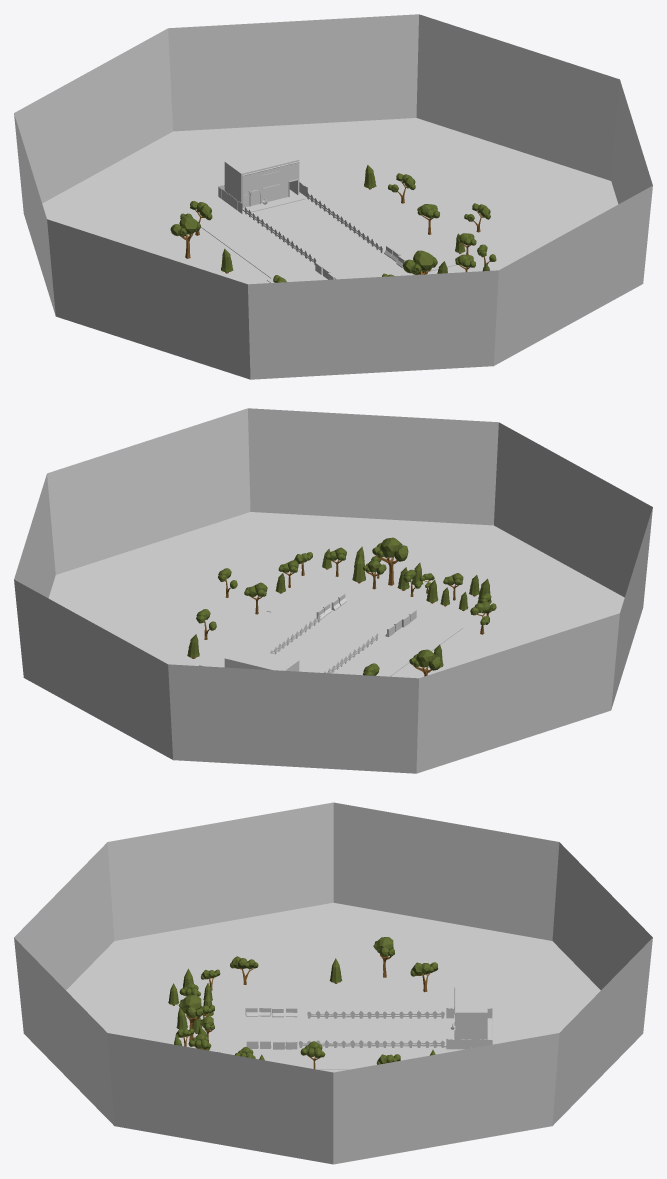
File: map2.fbx
3 views of the same model, one above another, from view 1: azimuth 30°, elevation 25°; view 2: azimuth 150°, elevation 25°; view 3: azimuth 270°, elevation 25° (orthographic). The views are drawn at different scales.
Visible parts, largest first — view 1: surround, yard, house.005, road, tree.015, tree.030; view 2: surround, yard, road, house.005, tree.015, tree.030; view 3: surround, yard, road, house.005, tree.015.
Boxes of the visible parts, x1,y1,x2,y2 form: surround: (14, 14, 652, 379); yard: (201, 187, 425, 278); house.005: (224, 147, 299, 207); road: (267, 239, 456, 282); tree.015: (402, 250, 437, 274); tree.030: (170, 216, 200, 258); surround: (14, 408, 652, 773); yard: (199, 612, 425, 676); road: (267, 587, 463, 651); house.005: (224, 646, 299, 671); tree.015: (372, 537, 408, 585); tree.030: (409, 649, 440, 676); surround: (14, 802, 652, 1164); yard: (303, 996, 443, 1069); road: (241, 994, 303, 1067); house.005: (454, 985, 487, 1045); tree.015: (178, 994, 203, 1040).
Size of the model in its own units: 11366 by 1888 by 11366.
